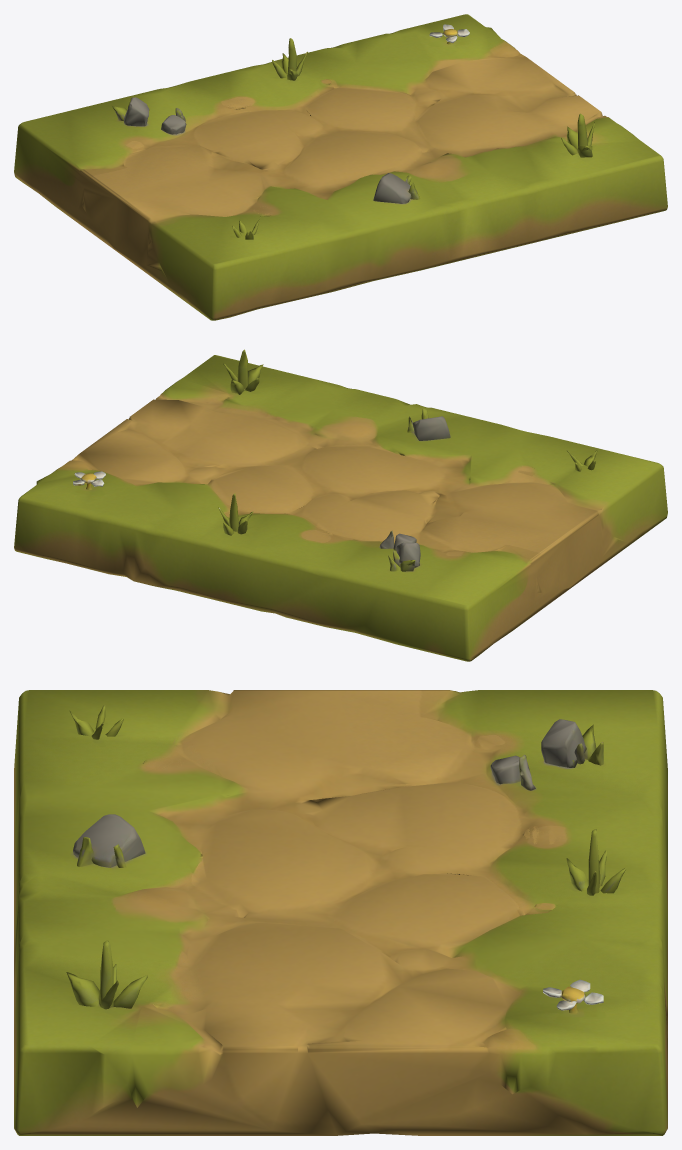
File: stone_path.fbx
The picture shows the model from 3 angles, top to bottom: view 1: azimuth 30°, elevation 25°; view 2: azimuth 150°, elevation 25°; view 3: azimuth 270°, elevation 25°; orthographic projection. The views are drawn at different scales.
Parts seen in each view (by area): view 1: tripo_node_1718c826; view 2: tripo_node_1718c826; view 3: tripo_node_1718c826.
Boxes of the visible parts, <box> form: tripo_node_1718c826: <box>14,14,667,320</box>; tripo_node_1718c826: <box>14,349,667,661</box>; tripo_node_1718c826: <box>14,690,667,1135</box>.
Size of the model in its own units: 0.998 by 0.1895 by 0.7559.
